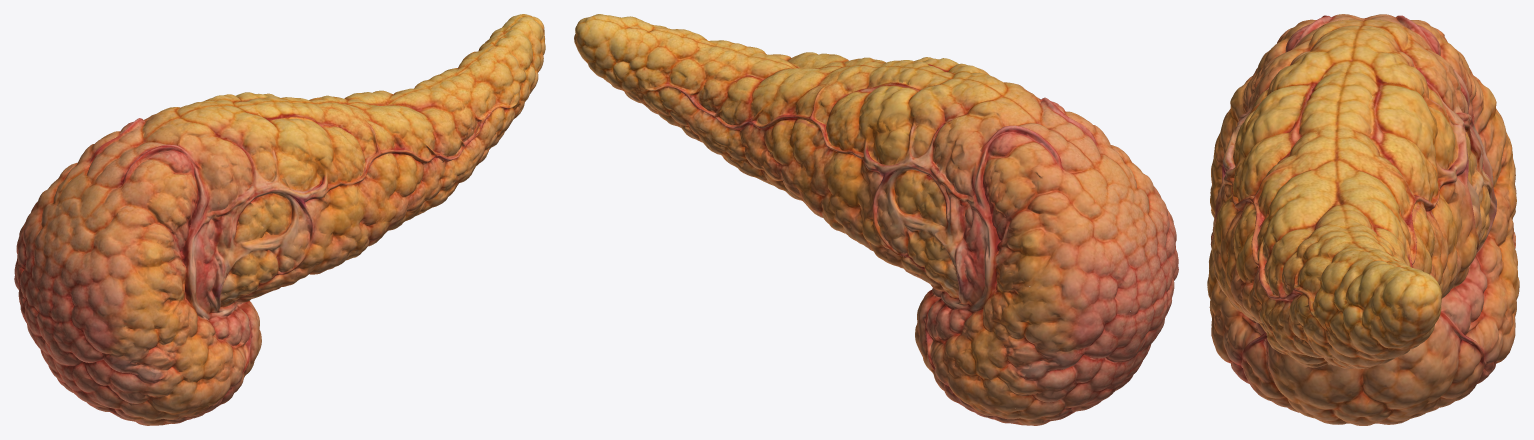
The model's file is pancreas.glb.
3 renders of one model, left to right at view 1: azimuth 30°, elevation 25°; view 2: azimuth 150°, elevation 25°; view 3: azimuth 270°, elevation 25°, orthographic. The views are drawn at different scales.
Parts seen in each view (by area): view 1: tripo_node_28f9ac4d-a7ee-4a69-acaa-c6201ef7be03; view 2: tripo_node_28f9ac4d-a7ee-4a69-acaa-c6201ef7be03; view 3: tripo_node_28f9ac4d-a7ee-4a69-acaa-c6201ef7be03.
Boxes of the visible parts, <box> form: tripo_node_28f9ac4d-a7ee-4a69-acaa-c6201ef7be03: <box>14,14,545,425</box>; tripo_node_28f9ac4d-a7ee-4a69-acaa-c6201ef7be03: <box>574,14,1178,425</box>; tripo_node_28f9ac4d-a7ee-4a69-acaa-c6201ef7be03: <box>1207,14,1519,425</box>.
Size of the model in its own units: 0.9803 by 0.5223 by 0.3614.
Materials: 1 (1 with a texture image).
